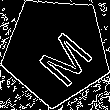M_NW: (23, 17, 90, 84)
